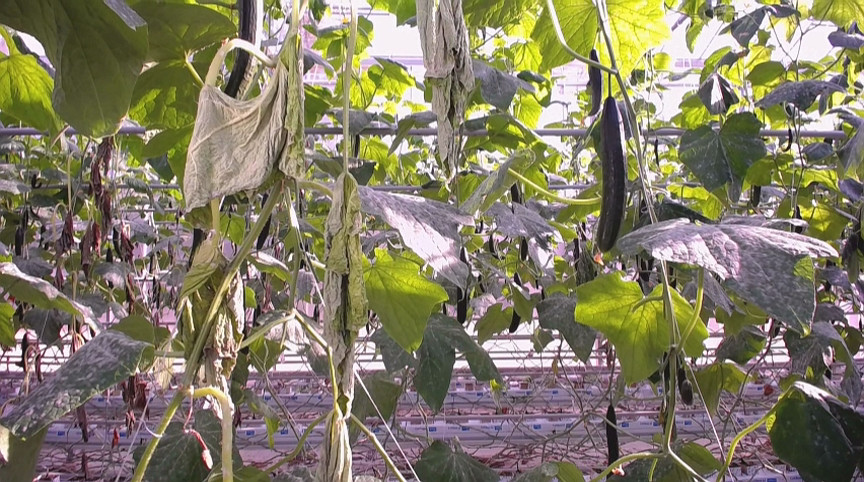cucumber: (221, 1, 265, 101), (597, 97, 624, 254), (586, 49, 604, 117), (607, 406, 621, 466)
